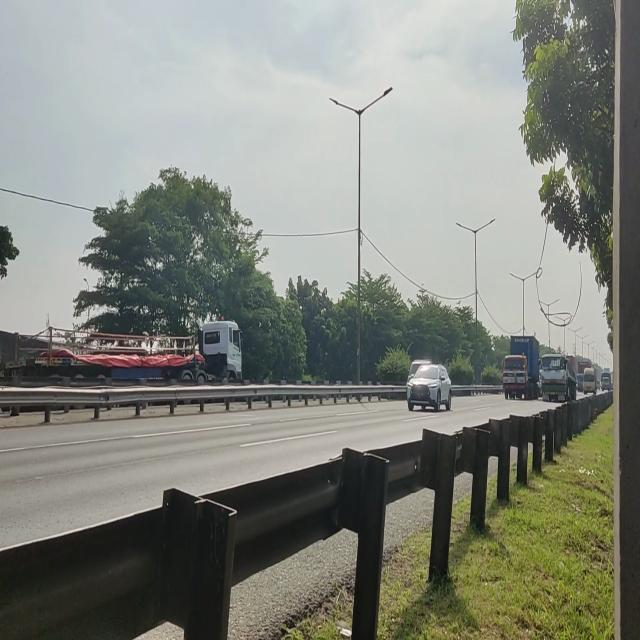Golongan I: (405, 360, 455, 417)
